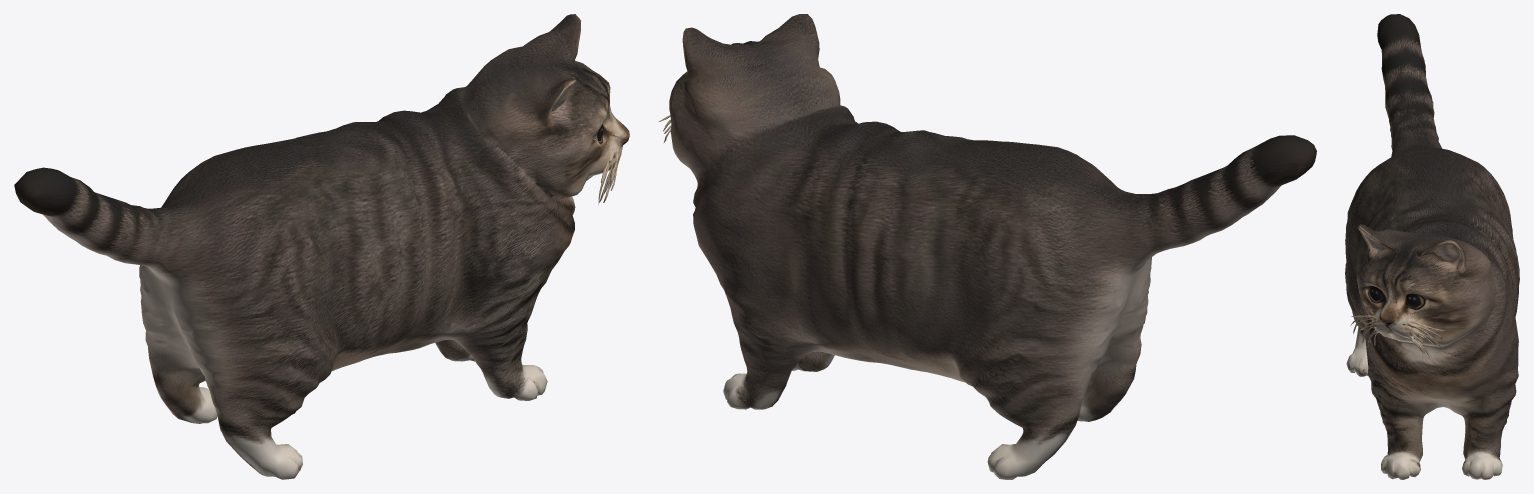
File: HUBBUB.glb
3 views of the same model, side by side, from view 1: azimuth 30°, elevation 25°; view 2: azimuth 150°, elevation 25°; view 3: azimuth 270°, elevation 25° (orthographic). The views are drawn at different scales.
Visible parts, largest first — view 1: tripo_node_4758ae96-d0bc-434a-8a61-0f14d4149075; view 2: tripo_node_4758ae96-d0bc-434a-8a61-0f14d4149075; view 3: tripo_node_4758ae96-d0bc-434a-8a61-0f14d4149075.
Boxes of the visible parts, left/top/right/bottom form: tripo_node_4758ae96-d0bc-434a-8a61-0f14d4149075: left=14, top=14, right=629, bottom=479; tripo_node_4758ae96-d0bc-434a-8a61-0f14d4149075: left=659, top=14, right=1316, bottom=479; tripo_node_4758ae96-d0bc-434a-8a61-0f14d4149075: left=1345, top=14, right=1519, bottom=479.
Bounding box in the file's own units: 1.9 × 1 × 0.5855.
Materials: 1 (1 with a texture image).
